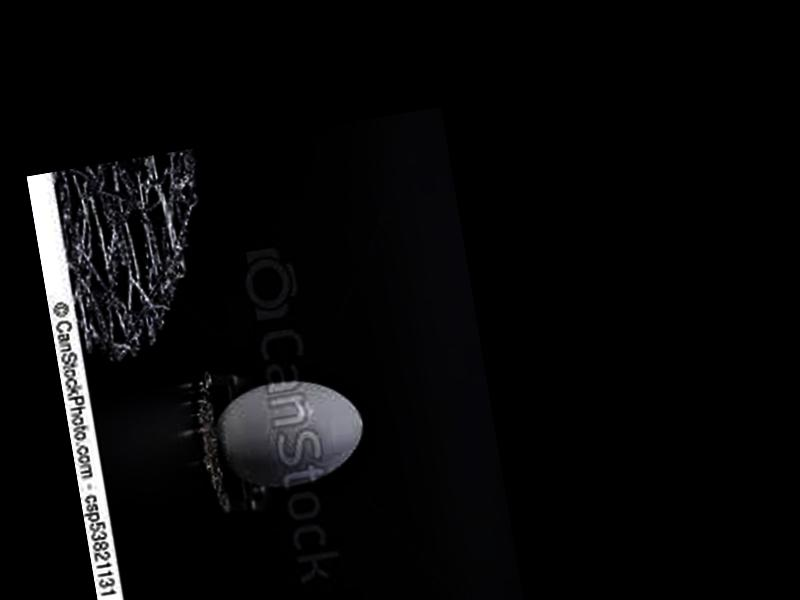Eggs: (208, 368, 370, 497)
